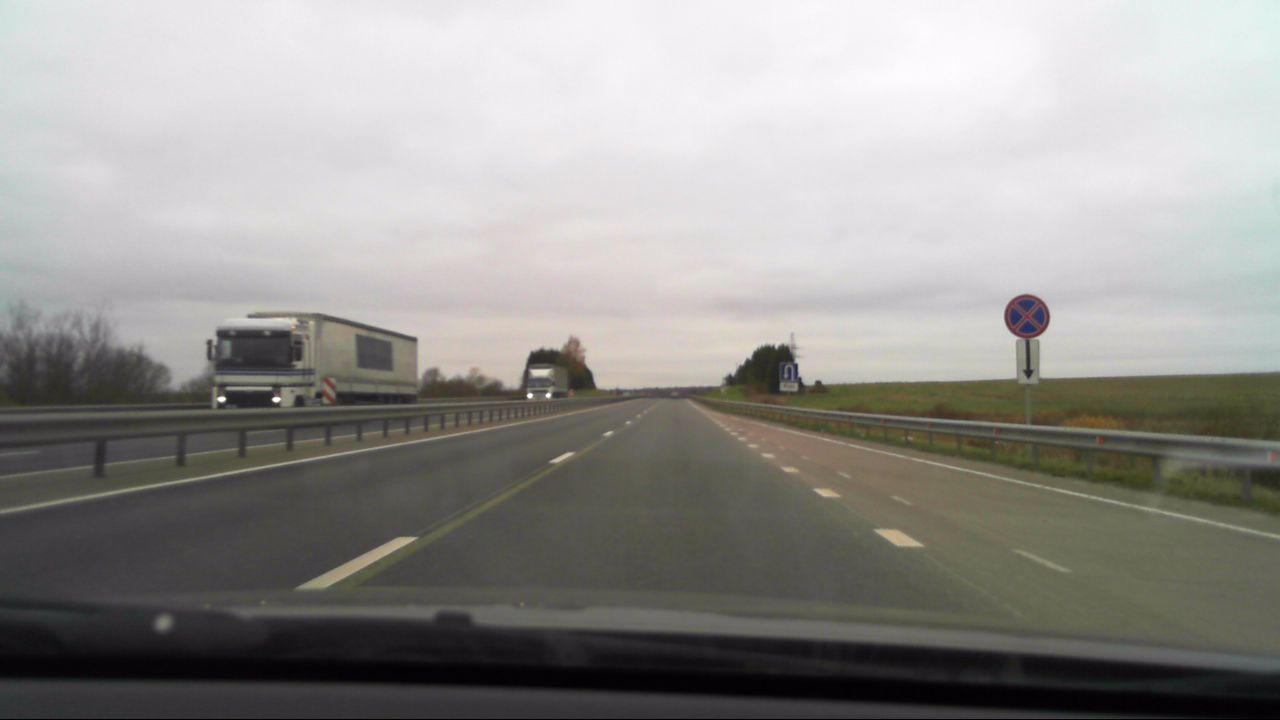No Parking: (1004, 293, 1049, 339)
U-turn: (781, 363, 797, 382)
